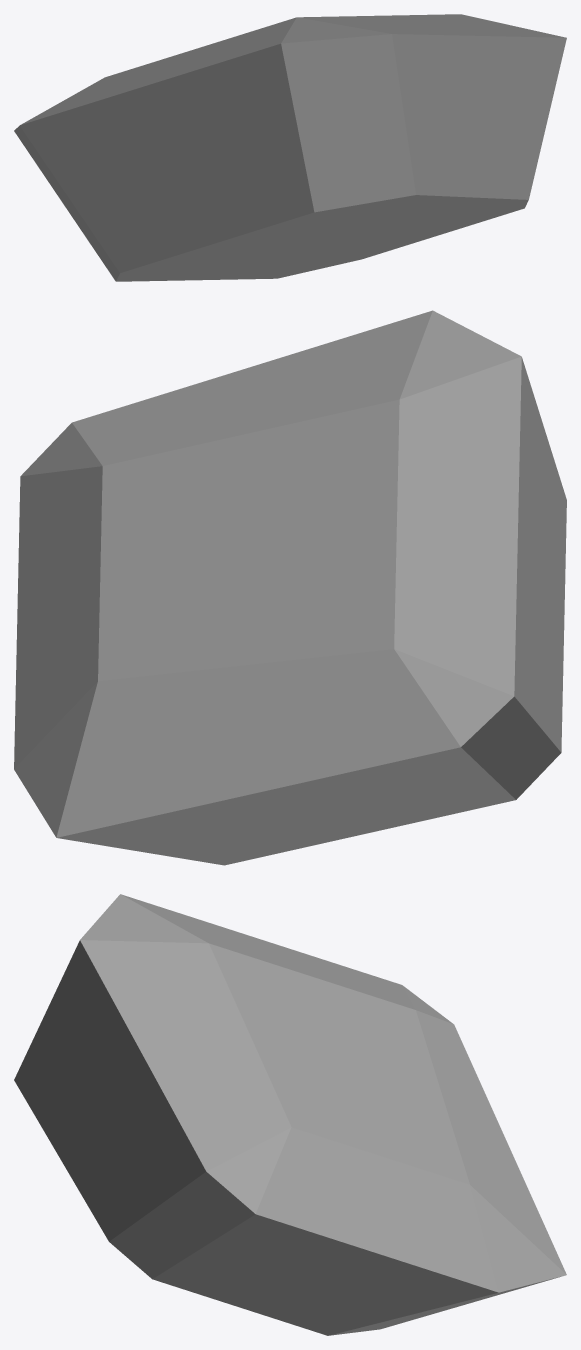
Rendered from stone_1.fbx.
3 views of the same model, one above another, from view 1: azimuth 30°, elevation 25°; view 2: azimuth 150°, elevation 25°; view 3: azimuth 270°, elevation 25° (orthographic). The views are drawn at different scales.
Visible parts, largest first — view 1: stone_1; view 2: stone_1; view 3: stone_1.
Boxes of the visible parts, <box> form: stone_1: <box>14,14,566,281</box>; stone_1: <box>14,310,566,865</box>; stone_1: <box>14,894,566,1335</box>.
Bounding box in the file's own units: 128 × 92.3 × 123.
